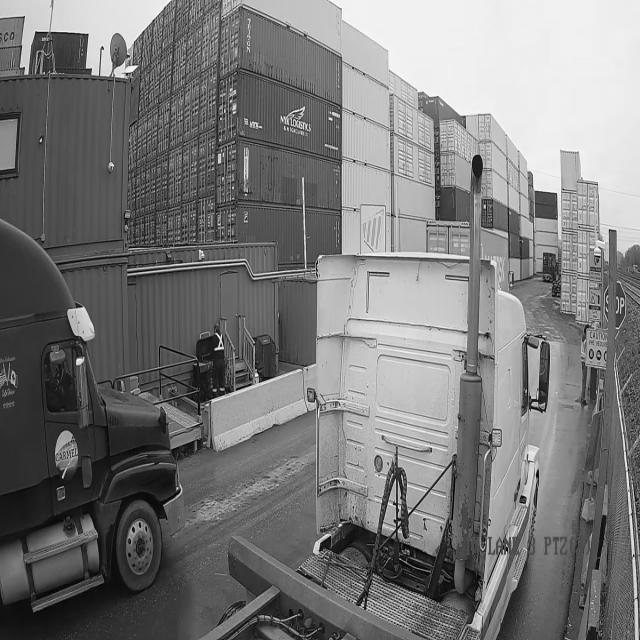truck_cabin: (301, 253, 550, 639), (0, 221, 183, 610)
truck_company: (56, 430, 78, 479)
